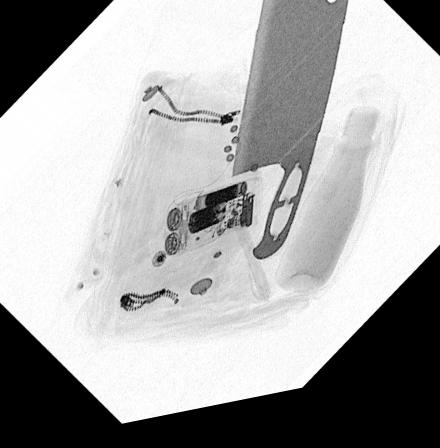Knife: (228, 0, 351, 273)
